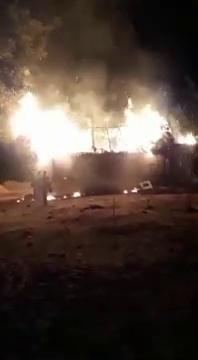fire: (18, 107, 75, 165), (123, 105, 162, 155)
